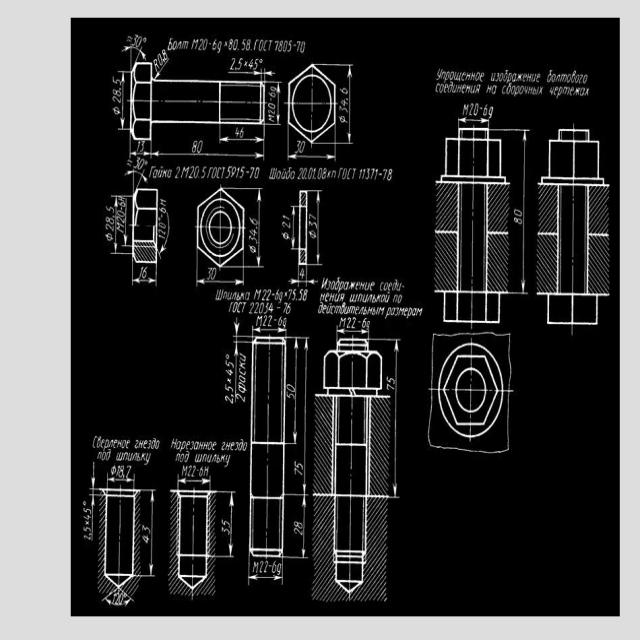marking_line: (393, 340, 400, 498), (152, 153, 263, 159), (522, 130, 526, 292), (293, 338, 299, 445), (124, 49, 149, 72), (149, 491, 155, 575), (303, 338, 306, 495), (229, 494, 235, 557), (257, 190, 262, 265), (316, 193, 321, 265), (221, 136, 264, 144), (249, 573, 283, 583), (120, 68, 125, 134), (198, 279, 244, 286), (301, 495, 306, 557), (348, 66, 352, 143), (105, 599, 135, 609), (253, 327, 286, 336), (288, 276, 320, 285), (179, 477, 210, 486), (289, 154, 335, 160), (233, 342, 237, 403), (275, 83, 281, 123), (114, 197, 118, 255), (109, 475, 134, 484), (338, 328, 369, 335), (154, 66, 168, 81), (458, 117, 488, 124), (232, 318, 242, 336), (124, 197, 127, 246), (158, 242, 165, 261), (130, 150, 150, 156), (133, 278, 156, 283), (264, 71, 276, 78), (243, 72, 260, 76)
numeric: (469, 99, 498, 118), (82, 509, 92, 543), (158, 205, 167, 240), (338, 86, 349, 114), (103, 205, 114, 233), (226, 166, 246, 181), (358, 168, 379, 182), (111, 76, 121, 105), (222, 383, 234, 407), (249, 215, 258, 245), (228, 56, 244, 72), (131, 33, 145, 49), (267, 85, 275, 113), (280, 211, 292, 229), (382, 168, 397, 182), (140, 524, 150, 545), (117, 464, 132, 478), (293, 518, 303, 538), (247, 56, 260, 71), (190, 140, 203, 154), (206, 267, 218, 282), (223, 358, 233, 376), (157, 49, 168, 65), (138, 265, 151, 278), (296, 140, 308, 154), (513, 209, 522, 227), (222, 518, 231, 536), (293, 461, 303, 477), (308, 214, 318, 229), (286, 384, 294, 402), (249, 166, 260, 179), (258, 560, 269, 573), (234, 127, 246, 138), (186, 466, 196, 479), (117, 205, 124, 223), (114, 592, 123, 606), (283, 302, 293, 314), (263, 315, 272, 327)
special_symbol: (338, 115, 348, 126), (103, 233, 114, 243), (280, 231, 291, 241), (109, 463, 118, 475), (112, 107, 121, 116), (248, 246, 257, 254), (308, 230, 316, 239)
